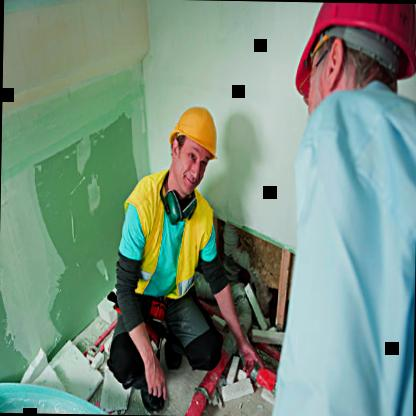helmet: (279, 1, 412, 136), (164, 91, 226, 199)
